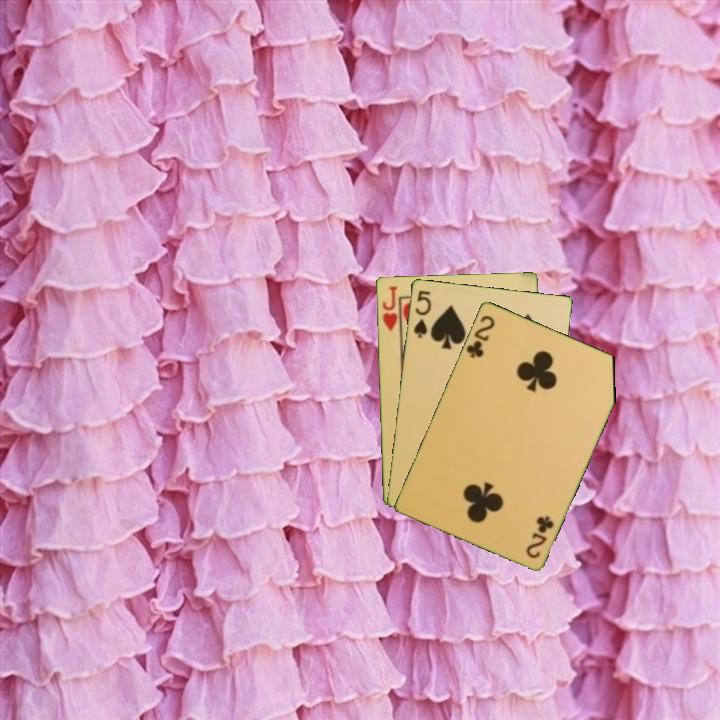2c: (463, 311, 498, 361), (522, 512, 557, 561)
5s: (410, 287, 434, 340)
Jh: (379, 282, 403, 338)
